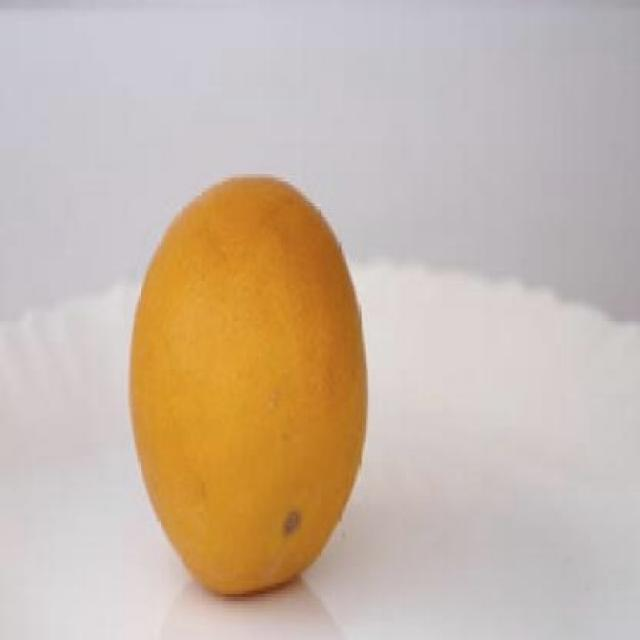Jeruk Sudah Matang: (125, 170, 368, 602)
